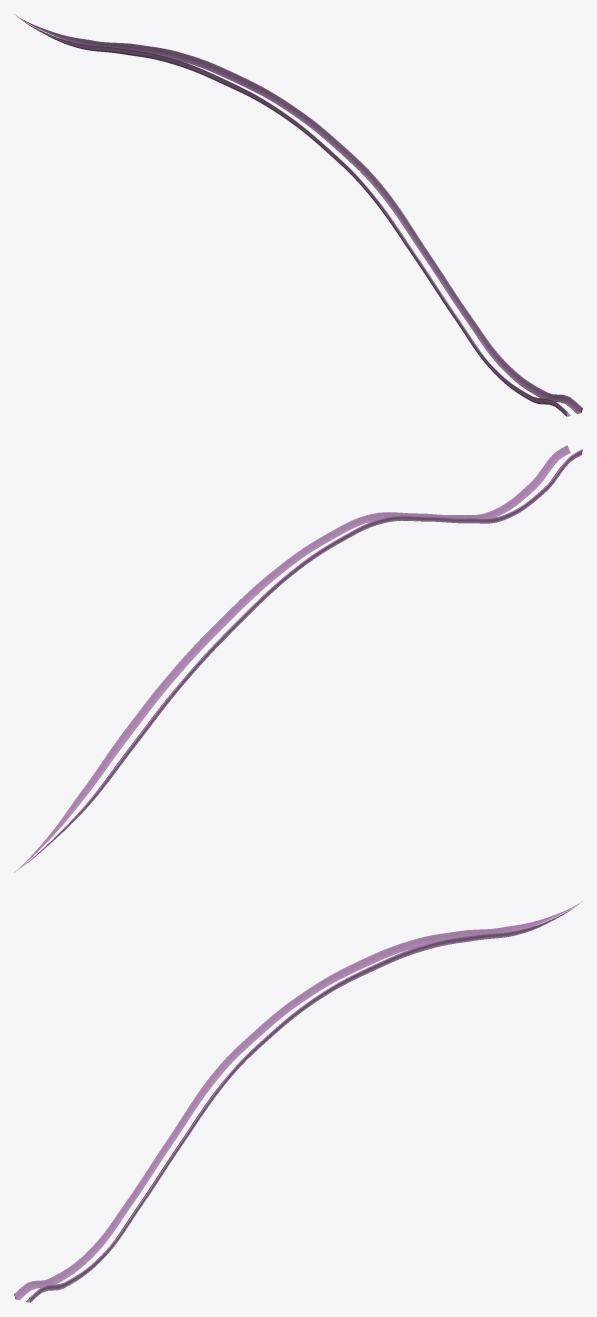
The picture shows the model from 3 angles, top to bottom: view 1: azimuth 30°, elevation 25°; view 2: azimuth 150°, elevation 25°; view 3: azimuth 330°, elevation 25°; orthographic projection.
Visible parts, largest first — view 1: 脊髓后角; view 2: 脊髓后角; view 3: 脊髓后角.
Part boxes in pixels (<box>): 脊髓后角: <box>14,14,582,416</box>; 脊髓后角: <box>14,445,582,872</box>; 脊髓后角: <box>14,901,582,1302</box>.
Bounding box in the file's own units: 0.0121 × 0.078 × 0.7222.
